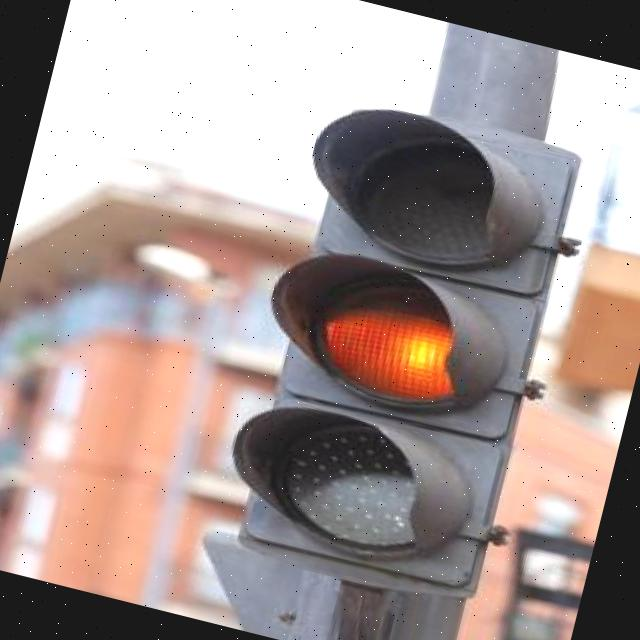yellow_light: (226, 99, 576, 607)
